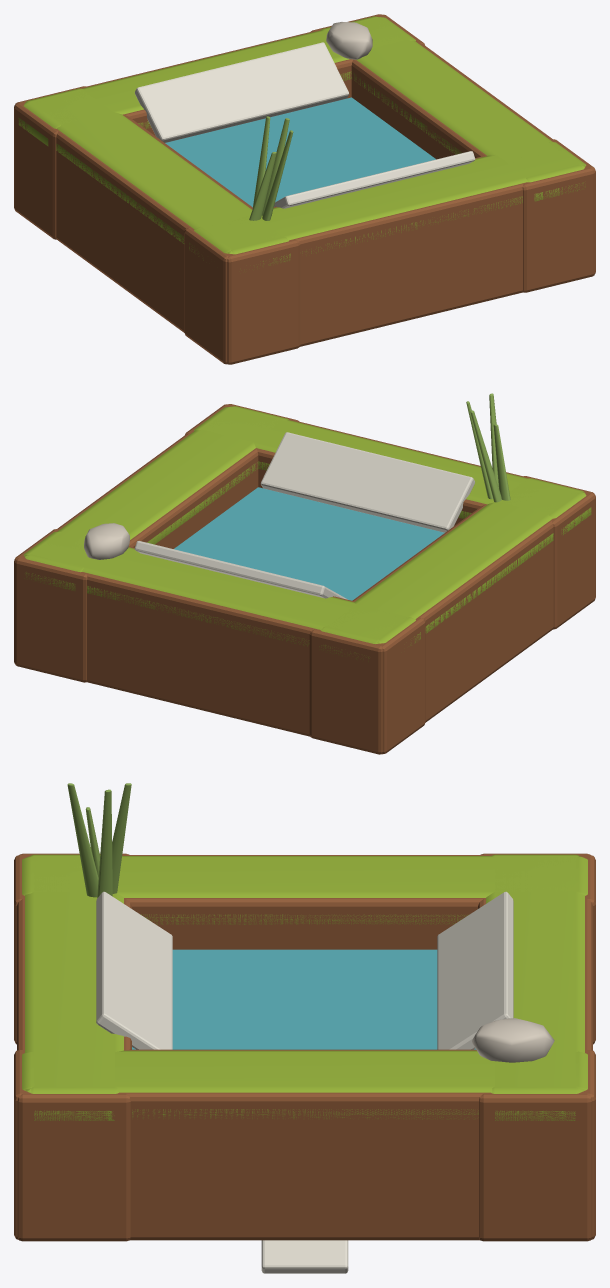
Rendered from tile_grass_pond_edge.glb.
3 views of the same model, one above another, from view 1: azimuth 30°, elevation 25°; view 2: azimuth 150°, elevation 25°; view 3: azimuth 270°, elevation 25° (orthographic). The views are drawn at different scales.
Parts seen in each view (by area): view 1: gp_rim0, gp_rim2, WaterSurface, gp_cap2, gp_rim3, gp_slope1, gp_cap3, gp_cap0, gp_body, gp_cap1, gp_rim1, gp_slope0 (+5 smaller); view 2: gp_rim1, gp_rim2, WaterSurface, gp_cap2, gp_rim3, gp_slope0, gp_cap1, gp_cap3, gp_body, gp_cap0, gp_rim0, gp_slope1 (+3 smaller); view 3: gp_rim3, WaterSurface, gp_cap2, gp_rim0, gp_rim1, gp_cap3, gp_cap0, gp_rim2, gp_cap1, gp_body, gp_slope0, gp_slope1 (+5 smaller).
Part boxes in pixels (x1,y1,x2,y2): gp_rim0: (184,139,595,364); gp_rim2: (15,86,300,364); WaterSurface: (165,97,435,207); gp_cap2: (24,88,290,266); gp_rim3: (310,14,595,292); gp_slope1: (134,42,349,142); gp_cap3: (321,16,585,201); gp_cap0: (189,142,586,260); gp_body: (56,208,522,346); gp_cap1: (18,16,415,146); gp_rim1: (14,14,424,239); gp_slope0: (274,151,475,208); gp_rim1: (14,529,425,754); gp_rim2: (309,476,594,754); WaterSurface: (174,487,444,600); gp_cap2: (319,478,585,661); gp_rim3: (14,404,298,682); gp_slope0: (260,432,474,532); gp_cap1: (23,531,420,646); gp_cap3: (24,406,288,590); gp_body: (87,619,524,736); gp_cap0: (194,406,591,534); gp_rim0: (185,404,595,629); gp_slope1: (134,541,347,599); gp_rim3: (14,1049,595,1240); WaterSurface: (132,949,475,1049); gp_cap2: (22,856,587,924); gp_rim0: (17,853,131,1241); gp_rim1: (478,853,592,1241); gp_cap3: (22,1050,587,1119); gp_cap0: (25,854,123,1120); gp_rim2: (14,855,595,1044); gp_cap1: (486,854,584,1120); gp_body: (130,1195,479,1240); gp_slope0: (96,891,172,1049); gp_slope1: (437,891,513,1049).
Size of the model in its own units: 2.02 by 1.36 by 2.02.
